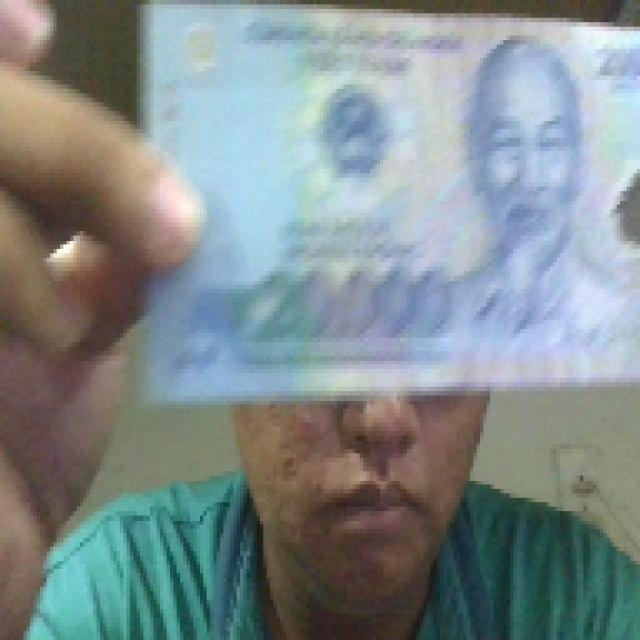20 000 VND: (126, 0, 636, 404)
